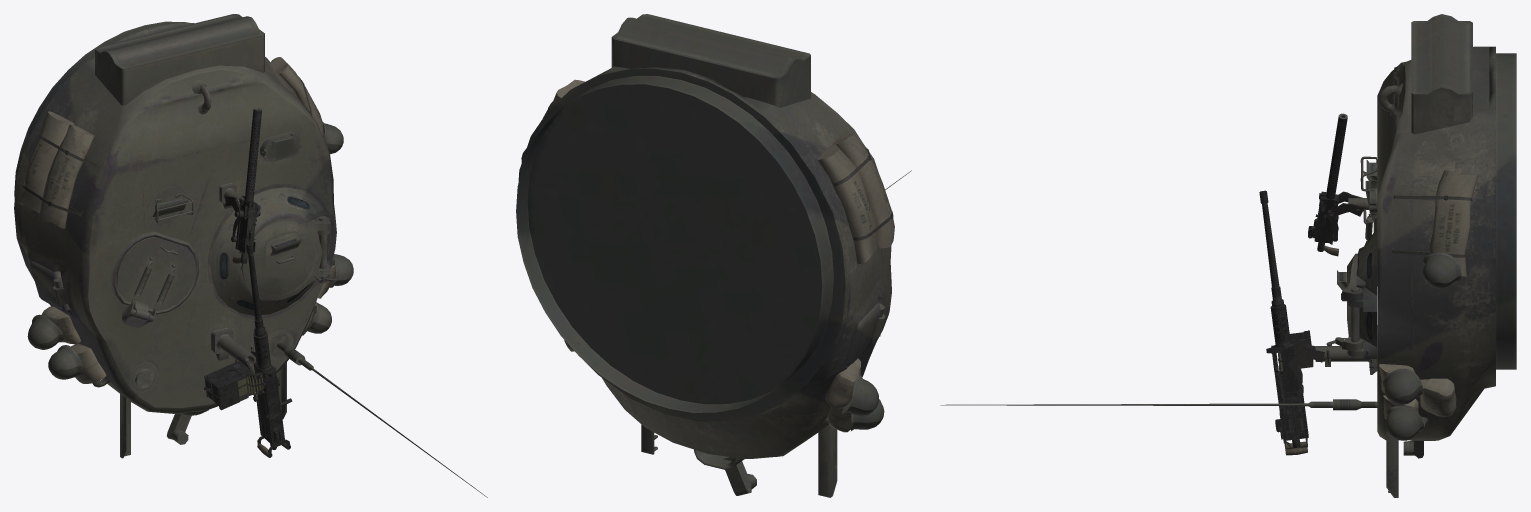
Rendered from Turret_01.glb.
3 views of the same model, side by side, from view 1: azimuth 30°, elevation 25°; view 2: azimuth 150°, elevation 25°; view 3: azimuth 270°, elevation 25° (orthographic). The views are drawn at different scales.
Visible parts, largest first — view 1: set_0_group_0; view 2: set_0_group_0; view 3: set_0_group_0.
Boxes of the visible parts, x1,y1,x2,y2 form: set_0_group_0: (14,14,487,497); set_0_group_0: (516,14,911,497); set_0_group_0: (940,14,1516,497).
Size of the model in its own units: 2.28 by 2.79 by 3.52.
Materials: 1 (1 with a texture image).
